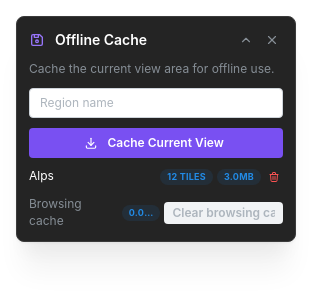
Test: OfflinePanel › evicts the tiles of a region it deletes
Click the button named "Delete Alps". click: (274, 177)
box: [265, 168, 283, 186]
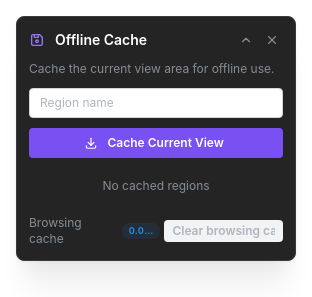
Expected: the text "No cached regions" is shown, [102, 178, 210, 193]
